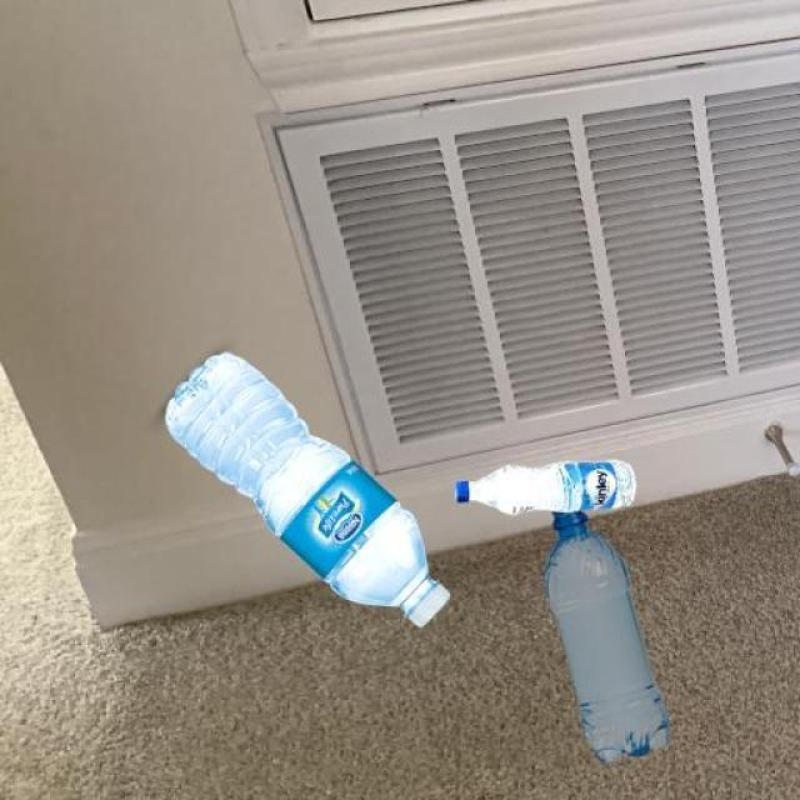botella: (159, 351, 451, 626), (548, 508, 672, 768), (449, 459, 640, 522)
